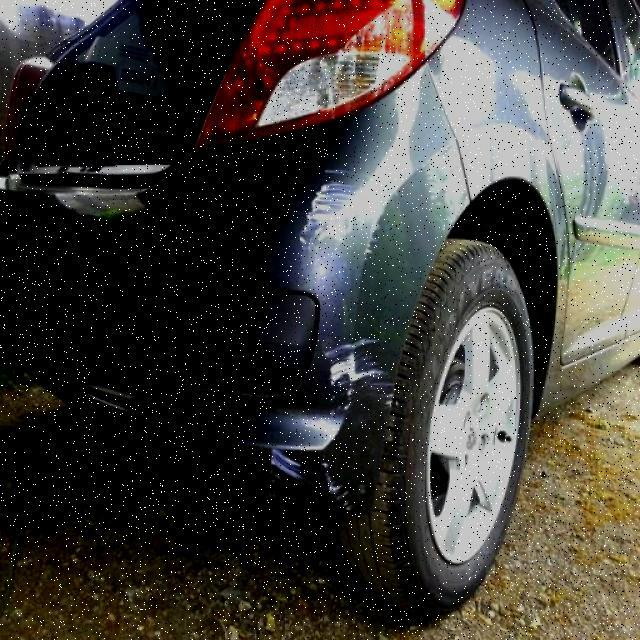car damage: (305, 171, 397, 266), (324, 338, 388, 421), (269, 444, 352, 502)
